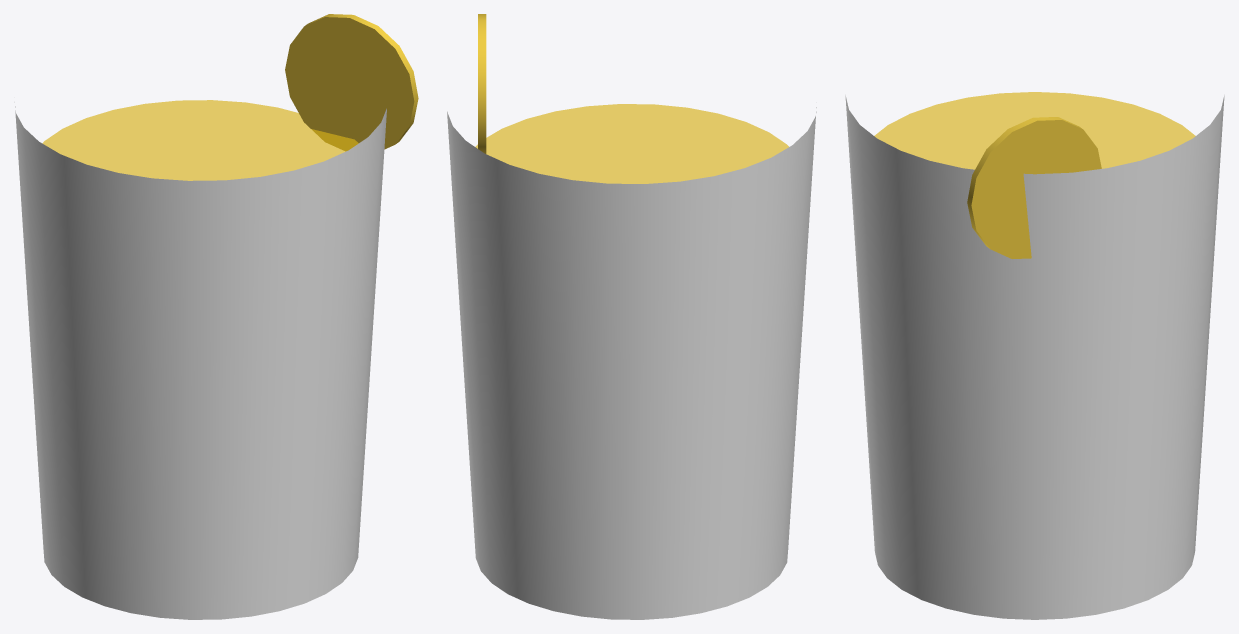
Rendered from masala-shikanji.glb.
The picture shows the model from 3 angles, left to right: view 1: azimuth 30°, elevation 25°; view 2: azimuth 150°, elevation 25°; view 3: azimuth 270°, elevation 25°; orthographic projection. The views are drawn at different scales.
Bounding box in the file's own units: 0.9687 × 1.33 × 0.9.
